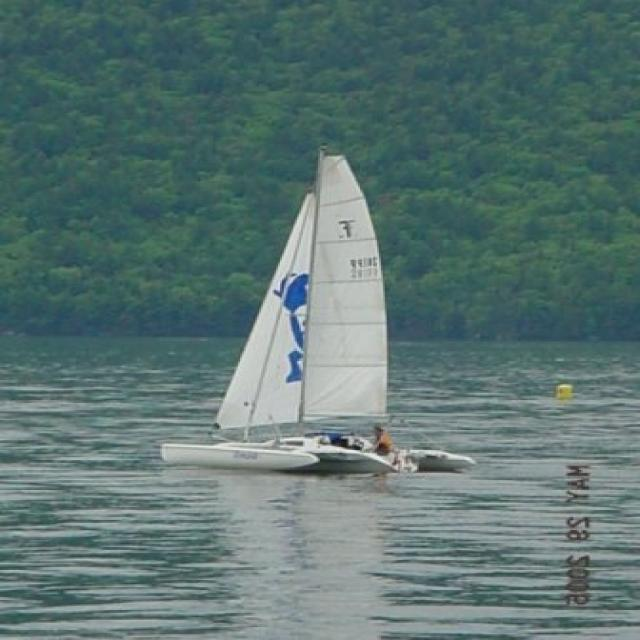Ship: (162, 154, 482, 484)
